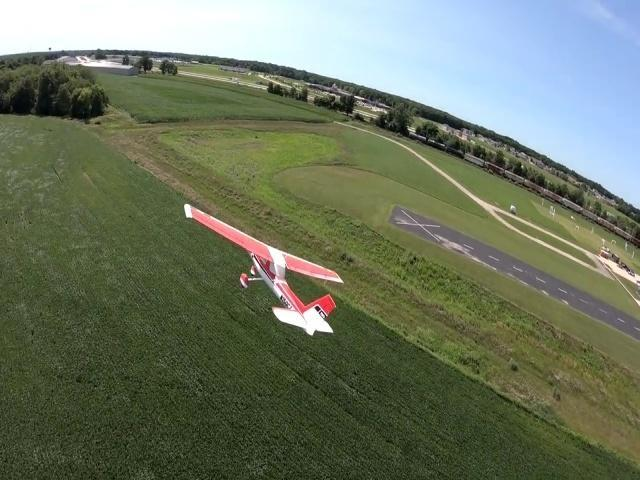Airplane: (184, 202, 344, 335)
